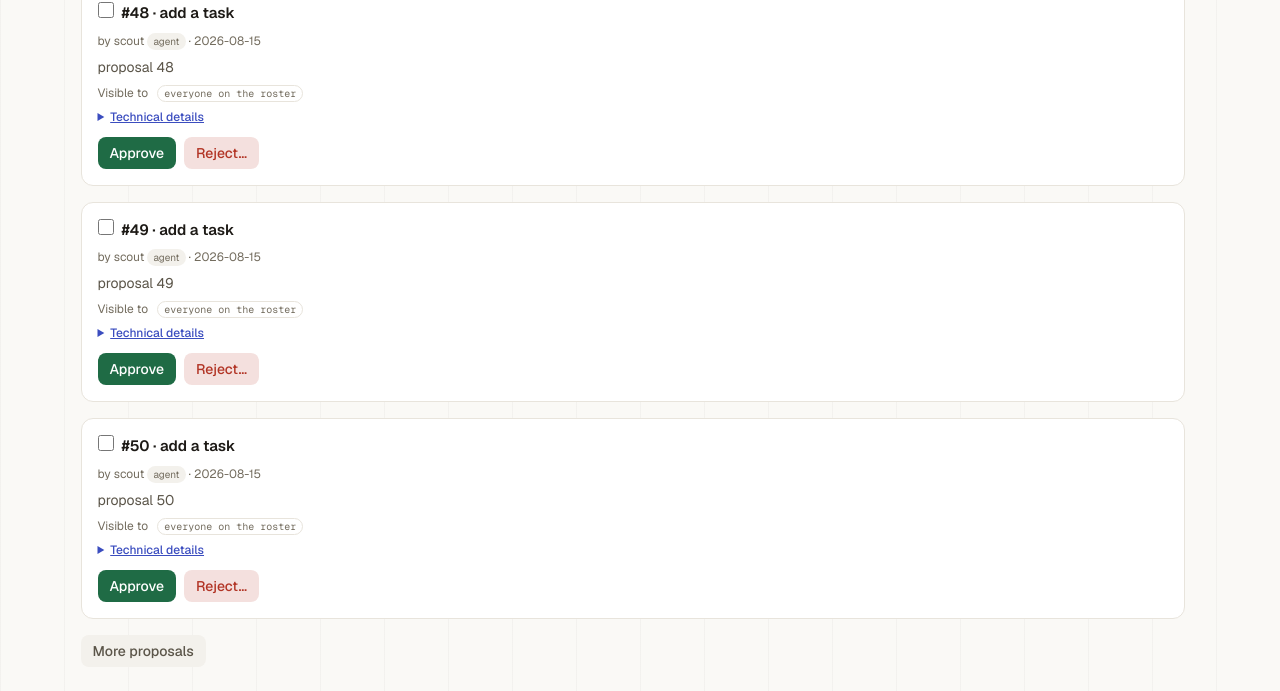
the pending review cursor › appends every later proposal from the FIFO queue
(page scrolled)
Expected: the text "proposal 50" is shown, [98,491,174,509]
Click the button "More proposals": (143, 651) [80,635,206,667]
(page scrolled)
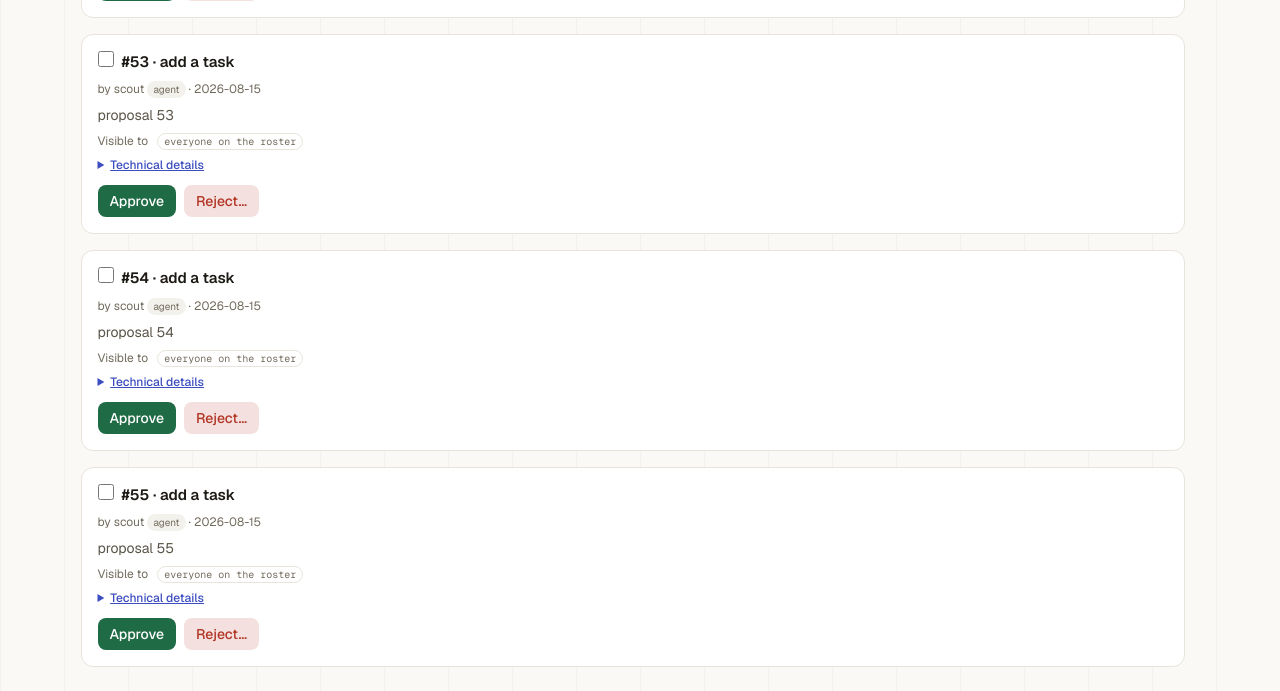
Now the text "proposal 55" is shown, box [98,539,174,557]
Now the button "More proposals" is gone
